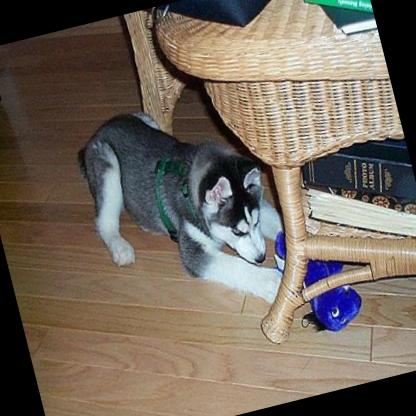Siberian_husky: (66, 77, 304, 342)
